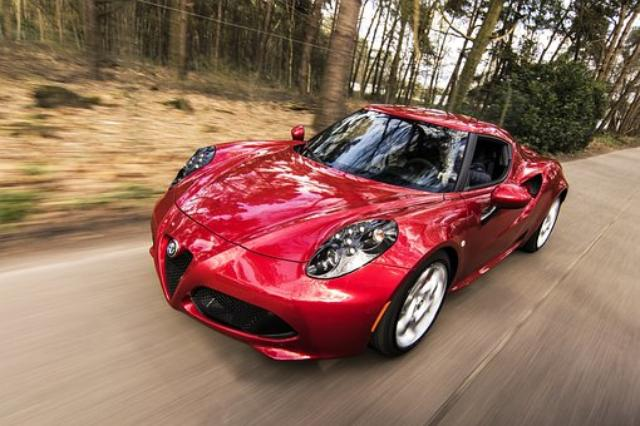alpha-romeo: (148, 103, 570, 365)
